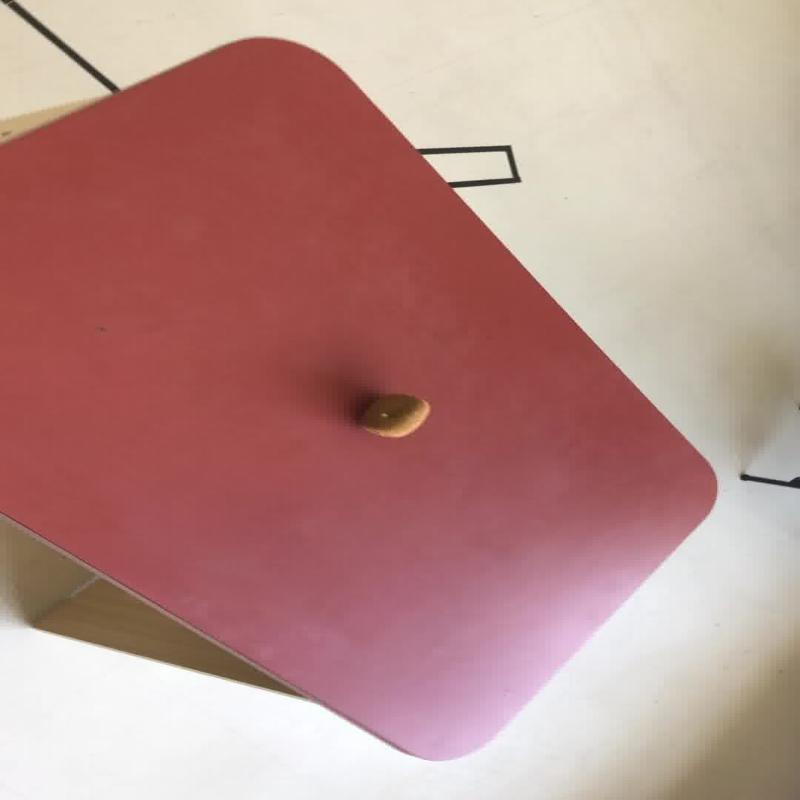kiwi: (0, 34, 720, 760), (354, 392, 430, 439)
